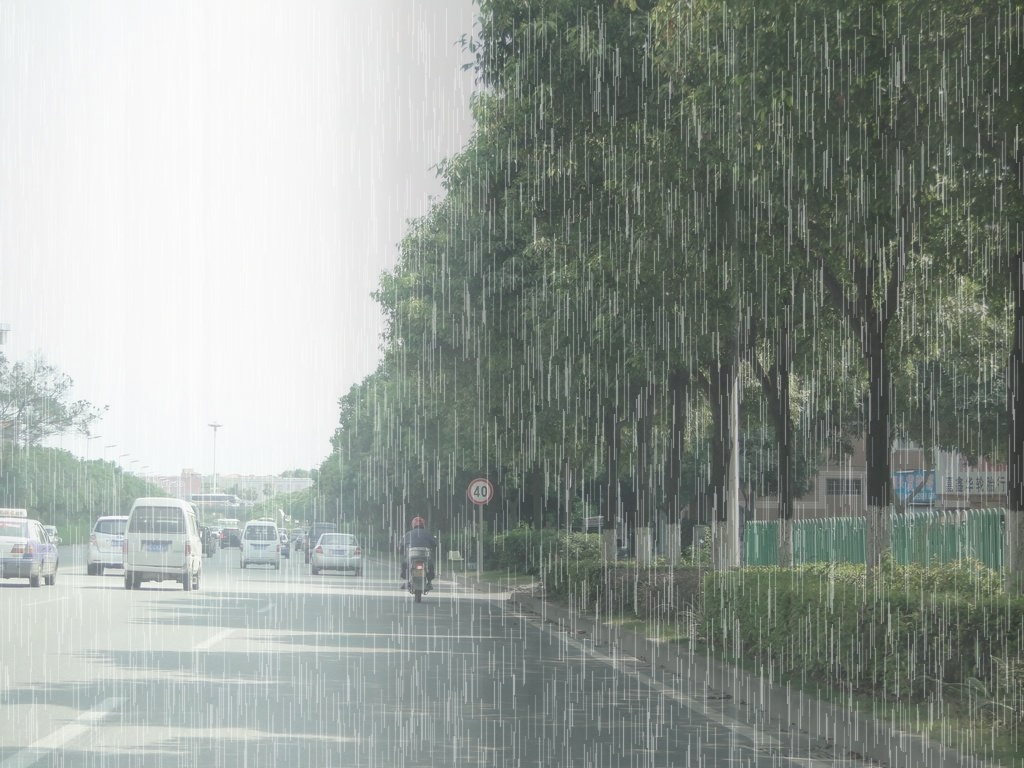Prohibitory Signs: (466, 477, 495, 506)
